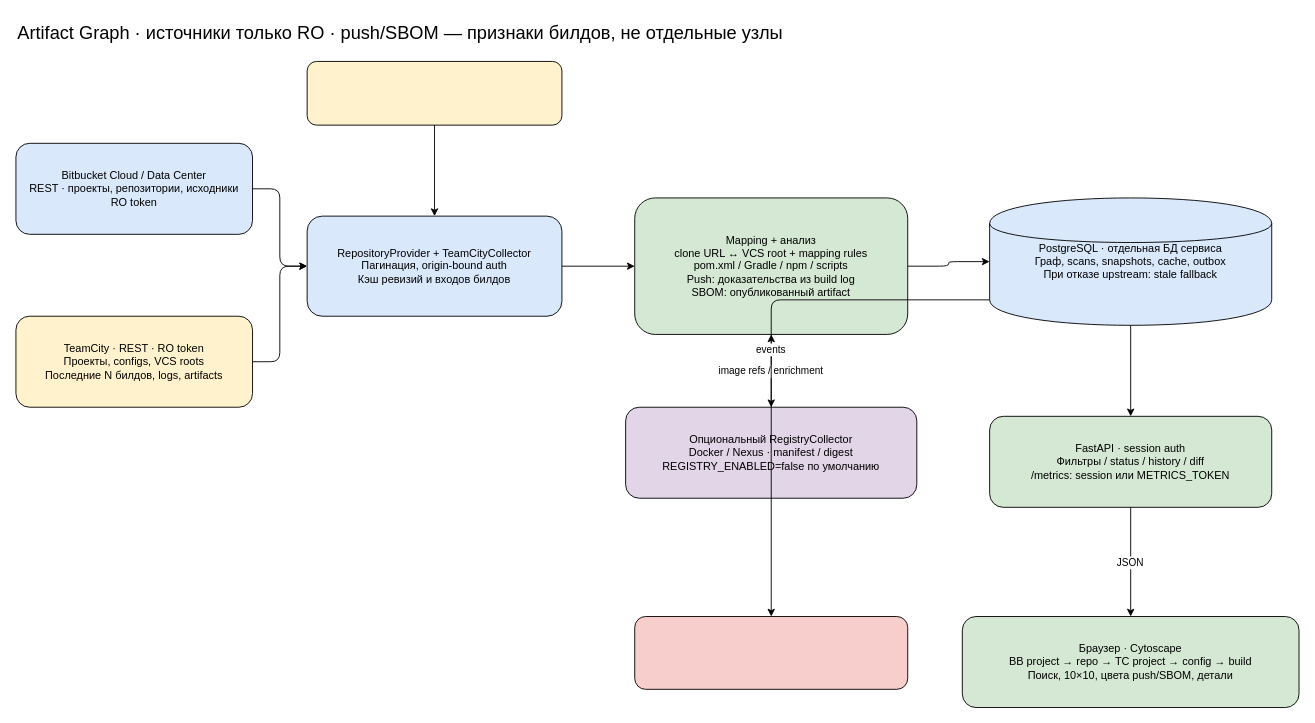
Some shapes in this 1315 by 723 pixel diagram are drawn without their labels. Each missing label, with the centre of its shape:
Координатор refresh + lock Startup / REFRESH_MINUTES / manual + CSRF: point (434, 93)
Опциональные webhook alerts Outbox + повторы доставки: point (771, 652)
